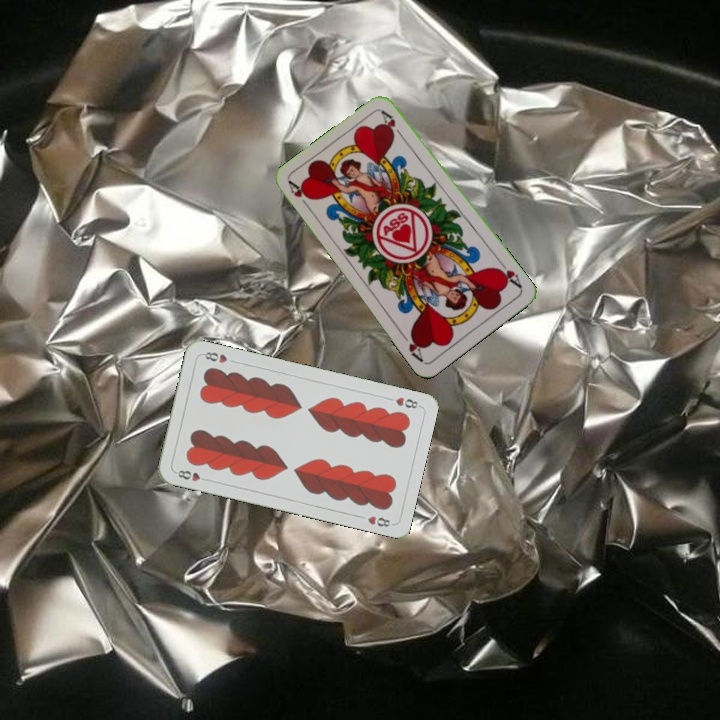H8: (171, 466, 211, 484), (391, 393, 423, 411)
HA: (492, 256, 525, 291), (284, 177, 314, 213)
